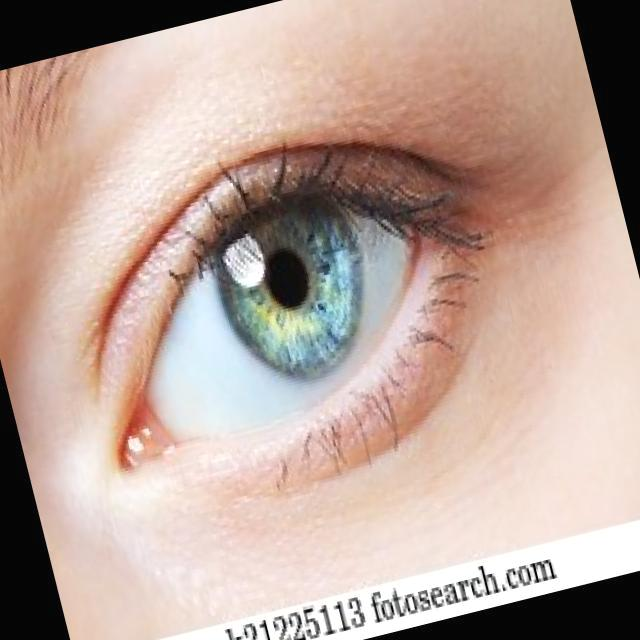Normal: (58, 126, 584, 527)
